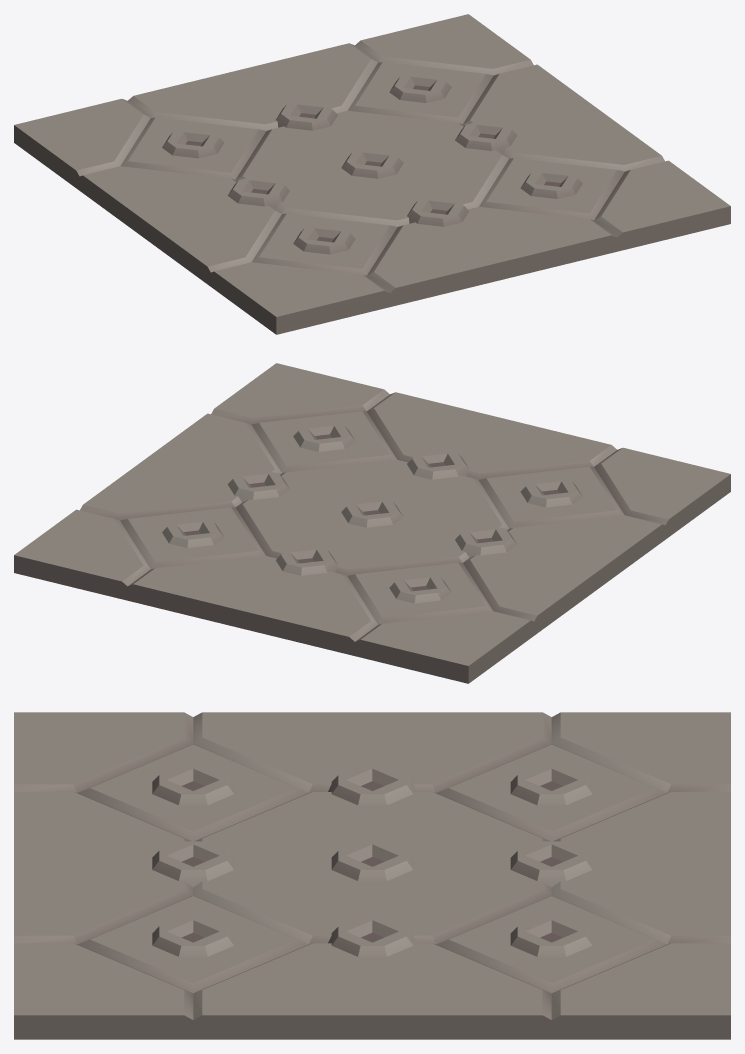
The model's file is floor_tile_big_spikes.obj.
3 renders of one model, top to bottom at view 1: azimuth 30°, elevation 25°; view 2: azimuth 150°, elevation 25°; view 3: azimuth 270°, elevation 25°, orthographic. The views are drawn at different scales.
Visible parts, largest first — view 1: floor_tile_big_spikes; view 2: floor_tile_big_spikes; view 3: floor_tile_big_spikes.
Boxes of the visible parts, box(x1,y1,x2,y2) form: floor_tile_big_spikes: box(14, 14, 730, 334); floor_tile_big_spikes: box(14, 363, 730, 683); floor_tile_big_spikes: box(14, 712, 730, 1039).
Bounding box in the file's own units: 4 × 0.2 × 4.
Materials: 1 (1 with a texture image).
